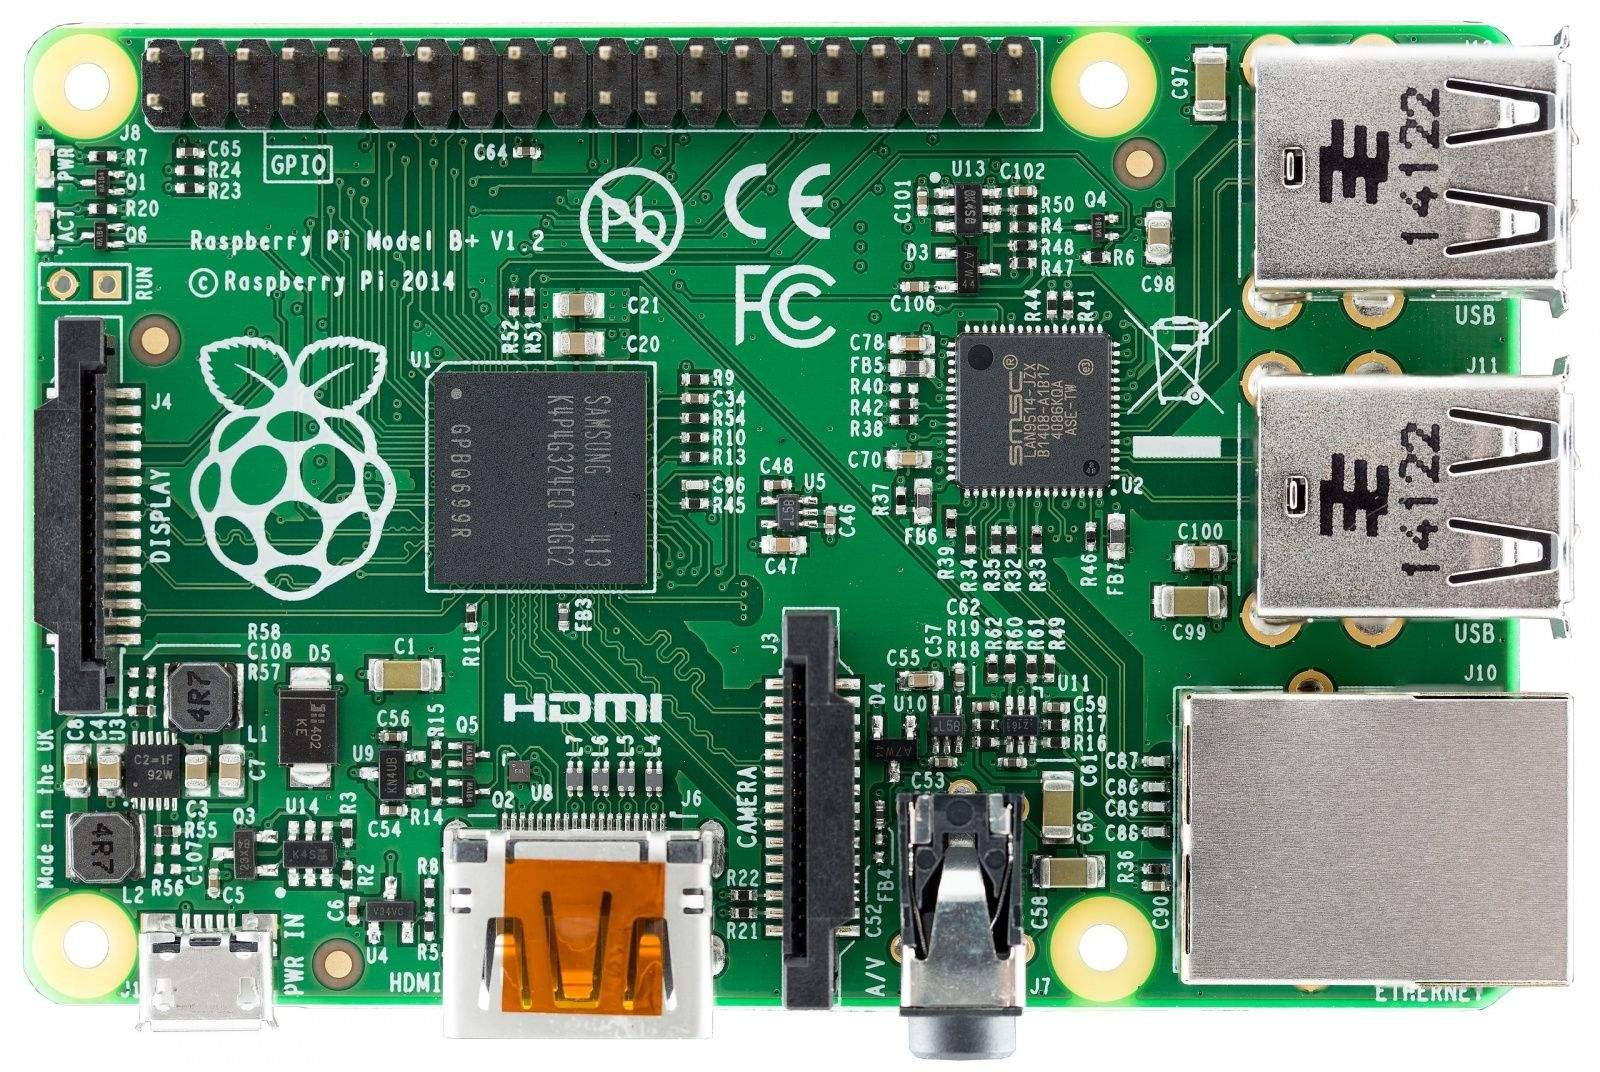audiojack: (893, 780, 1038, 1067)
bchi: (419, 353, 671, 599)
ethernet: (1187, 692, 1570, 985)
gpio: (143, 28, 1051, 127)
usb: (1263, 366, 1574, 620), (1246, 53, 1578, 290)
